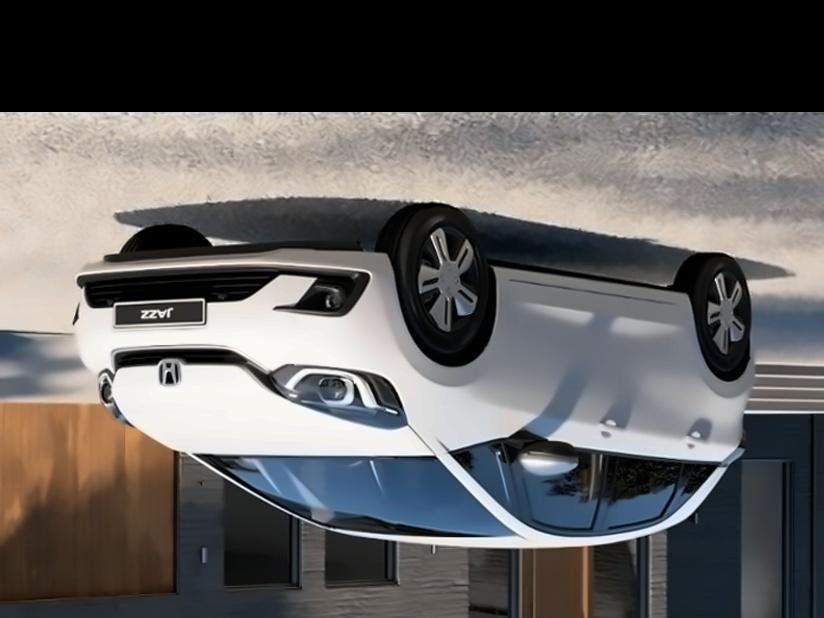Car hood: (110, 357, 437, 459)
Driver-s door - -F-R-: (507, 267, 621, 540)
Fender - -F-R-: (396, 266, 508, 462)
Fender - -R-R-: (707, 346, 749, 449)
Front bumper: (68, 240, 414, 377)
Headlight - -L-: (90, 362, 136, 432)
Headlight - -R-: (264, 357, 412, 431)
Passenger-s door - -R-R-: (601, 287, 707, 539)
Rear light - -R-: (727, 428, 756, 457)
Side bumper - -R-: (484, 257, 697, 310)
Side mirror - -R-: (509, 433, 585, 480)
